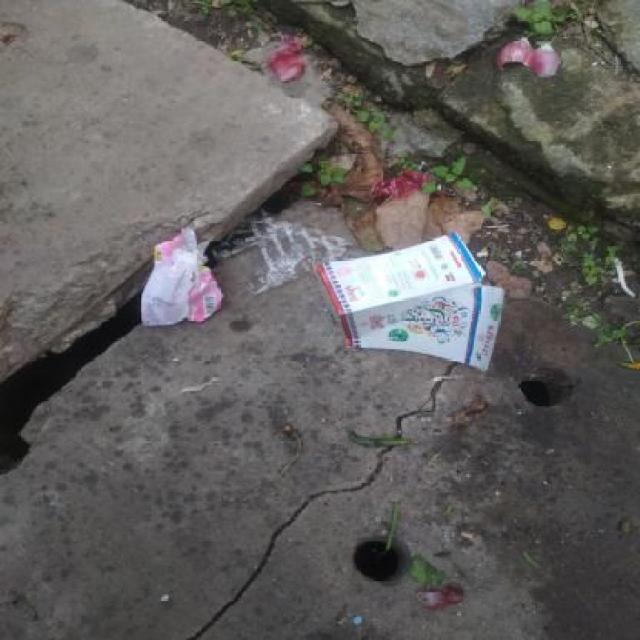garbage: (71, 148, 287, 384), (306, 237, 522, 378), (334, 109, 514, 228), (477, 38, 582, 74), (277, 25, 322, 90)
